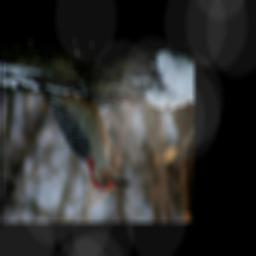Woodpecker: (34, 79, 131, 190)
